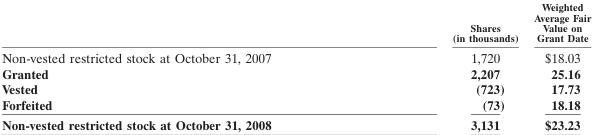table: (1, 0, 590, 132)
table column: (1, 0, 361, 132), (361, 0, 525, 132), (525, 0, 590, 132)
table column header: (1, 0, 590, 46)
table row: (1, 0, 590, 46), (1, 46, 590, 65), (1, 96, 590, 114), (1, 114, 590, 132), (1, 80, 590, 96), (1, 65, 590, 80)
